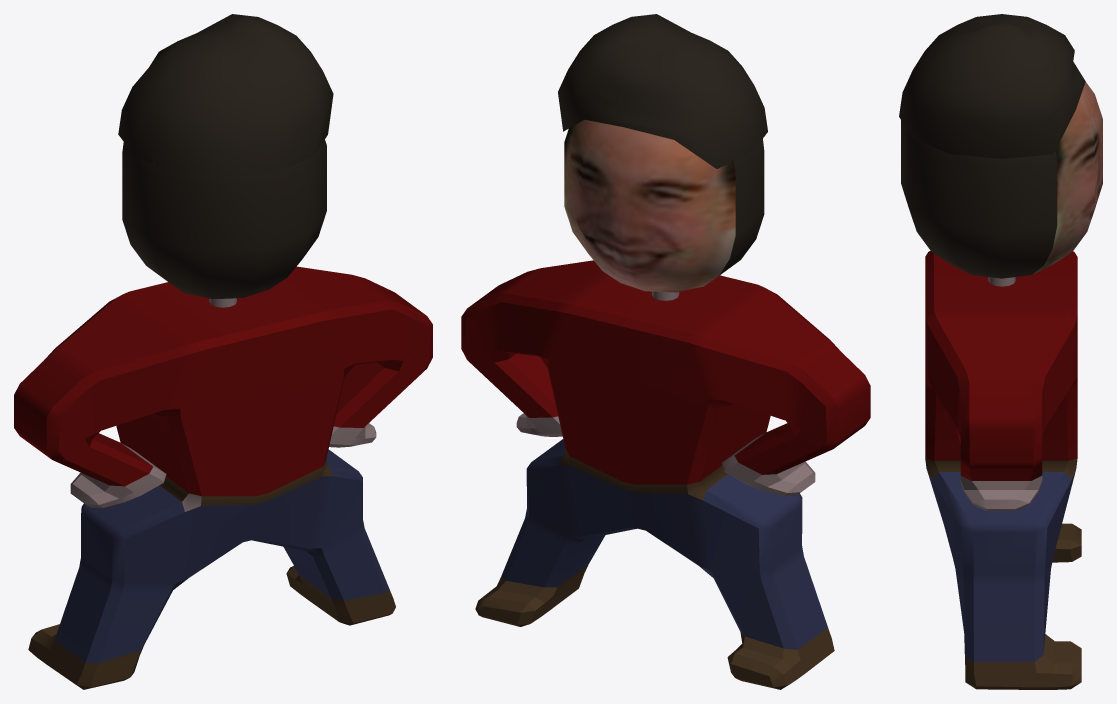
Rendered from Rick.fbx.
3 renders of one model, left to right at view 1: azimuth 30°, elevation 25°; view 2: azimuth 150°, elevation 25°; view 3: azimuth 270°, elevation 25°, orthographic. The views are drawn at different scales.
Parts seen in each view (by area): view 1: pCube1, pasted__pSphere2, pSphere1; view 2: pCube1, pSphere1, pasted__pSphere2; view 3: pCube1, pSphere1, pasted__pSphere2.
Boxes of the visible parts, x1,y1,x2,y2 form: pCube1: (14, 266, 432, 689); pasted__pSphere2: (118, 14, 333, 178); pSphere1: (122, 140, 326, 298); pCube1: (461, 260, 870, 689); pSphere1: (564, 119, 764, 292); pasted__pSphere2: (558, 14, 767, 168); pCube1: (925, 251, 1081, 689); pSphere1: (901, 82, 1102, 278); pasted__pSphere2: (899, 14, 1085, 158).
Bounding box in the file's own units: 4.25 × 6.46 × 1.98.
